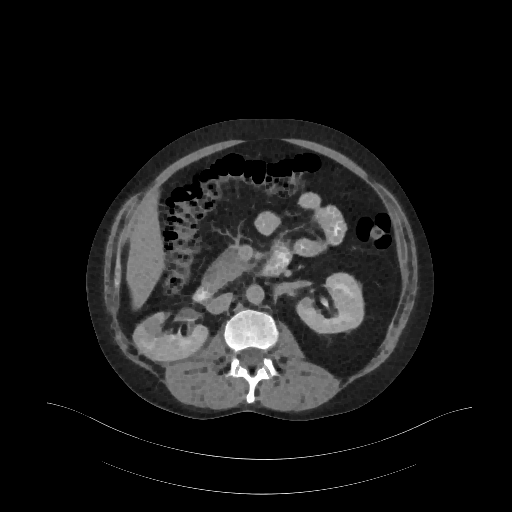Lesion: (146, 320, 162, 337)
